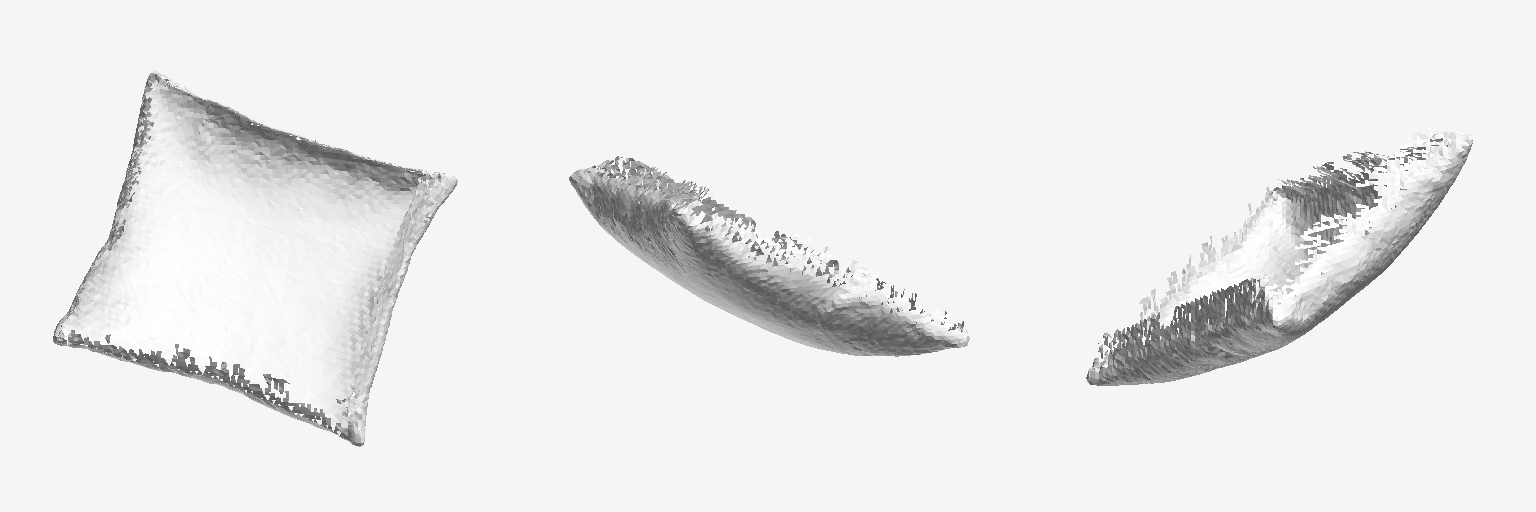
File: result_label.obj
3 renders of one model, left to right at view 1: azimuth 30°, elevation 25°; view 2: azimuth 150°, elevation 25°; view 3: azimuth 270°, elevation 25°, orthographic.
Bounding box in the file's own units: 0.8309 × 0.4908 × 0.695.